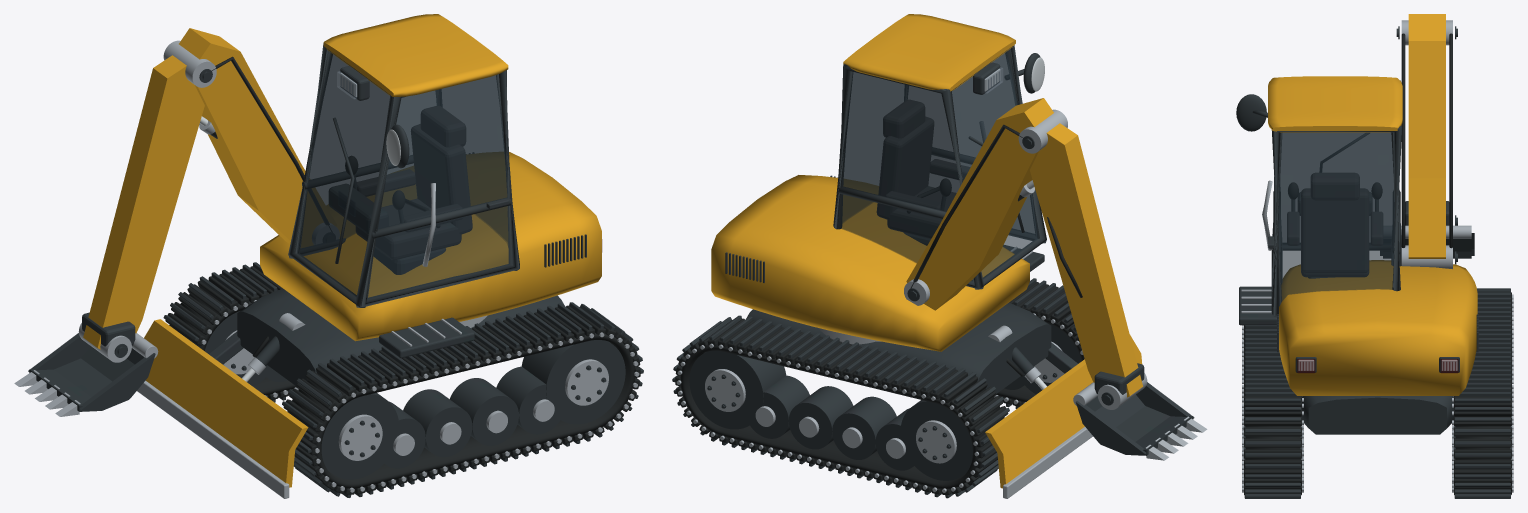
File: excavator.glb
3 views of the same model, side by side, from view 1: azimuth 30°, elevation 25°; view 2: azimuth 150°, elevation 25°; view 3: azimuth 270°, elevation 25° (orthographic). The views are drawn at different scales.
Parts seen in each view (by area): view 1: Crowned excavator cab roof, Blade lift pressure barrel, Front or rear cab glass, Blade lift hydraulic hose, Cab access step, Shaped excavator dipper, Shaped excavator boom, Curved grading blade, Blade hardened cutting edge, Contoured seat cushion, Bucket quick coupler, Bucket curl transverse pin.001 (+2 smaller); view 2: Crowned excavator cab roof, Blade lift pressure barrel, Front or rear cab glass, Blade lift hydraulic hose, Shaped excavator dipper, Shaped excavator boom, Blade hardened cutting edge, Cab access step, Contoured seat cushion, Curved grading blade, Bucket quick coupler, Boom articulation pin (+3 smaller); view 3: Crowned excavator cab roof, Blade lift pressure barrel, Front or rear cab glass, Shaped excavator boom, Contoured seat cushion, Blade lift hydraulic hose, Cab access step, Boom high pressure line, Blade hardened cutting edge, Boom articulation pin, Bucket quick coupler, Rear excavator lamp optical flute (+4 smaller).
Part boxes in pixels (<box>): Crowned excavator cab roof: <box>260,14,601,341</box>; Blade lift pressure barrel: <box>163,262,643,497</box>; Front or rear cab glass: <box>297,52,509,298</box>; Blade lift hydraulic hose: <box>165,266,640,494</box>; Cab access step: <box>288,43,586,358</box>; Shaped excavator dipper: <box>83,55,204,349</box>; Shaped excavator boom: <box>179,28,336,247</box>; Curved grading blade: <box>144,319,308,487</box>; Blade hardened cutting edge: <box>137,300,639,498</box>; Contoured seat cushion: <box>356,106,472,259</box>; Bucket quick coupler: <box>28,312,155,411</box>; Bucket curl transverse pin.001: <box>14,333,158,416</box>; Crowned excavator cab roof: <box>711,14,1029,351</box>; Blade lift pressure barrel: <box>672,278,1081,498</box>; Front or rear cab glass: <box>841,51,1038,281</box>; Blade lift hydraulic hose: <box>675,282,1084,494</box>; Shaped excavator dipper: <box>1030,123,1142,397</box>; Shaped excavator boom: <box>906,98,1053,310</box>; Blade hardened cutting edge: <box>676,247,1092,498</box>; Cab access step: <box>725,45,1046,289</box>; Contoured seat cushion: <box>877,100,970,238</box>; Curved grading blade: <box>985,334,1142,488</box>; Bucket quick coupler: <box>1075,363,1194,455</box>; Boom articulation pin: <box>904,109,1067,305</box>; Crowned excavator cab roof: <box>1268,76,1477,395</box>; Blade lift pressure barrel: <box>1243,288,1511,498</box>; Front or rear cab glass: <box>1278,132,1395,301</box>; Shaped excavator boom: <box>1408,14,1445,258</box>; Contoured seat cushion: <box>1287,173,1382,276</box>; Blade lift hydraulic hose: <box>1244,292,1511,495</box>; Cab access step: <box>1236,80,1478,372</box>; Boom high pressure line: <box>1401,33,1452,248</box>; Blade hardened cutting edge: <box>1241,289,1513,492</box>; Boom articulation pin: <box>1401,20,1452,269</box>; Bucket quick coupler: <box>1380,201,1474,258</box>; Rear excavator lamp optical flute: <box>1297,359,1458,373</box>.
Size of the model in its own units: 3.03 by 2.3 by 1.63.
9 materials, 9 textured.
